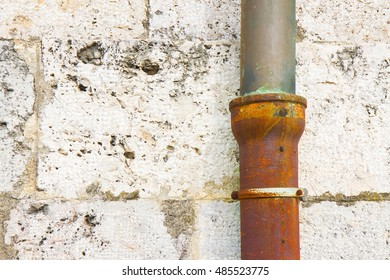Severe: (225, 92, 311, 262)
